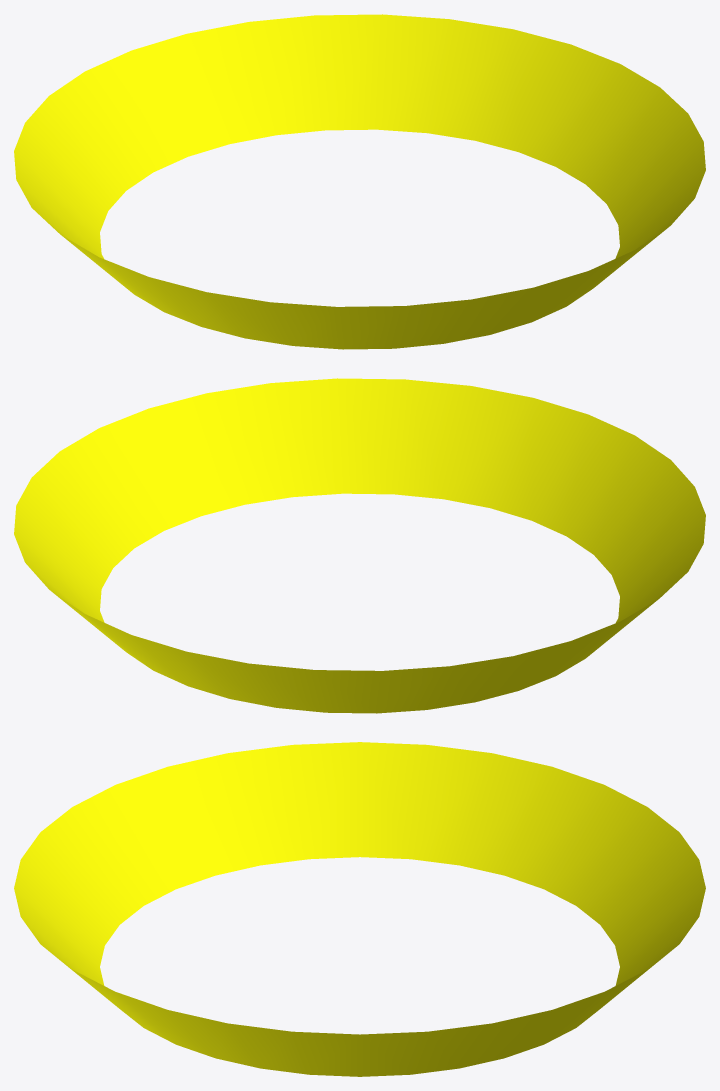
The picture shows the model from 3 angles, top to bottom: view 1: azimuth 30°, elevation 25°; view 2: azimuth 150°, elevation 25°; view 3: azimuth 270°, elevation 25°; orthographic projection.
Visible parts, largest first — view 1: Cylinder001; view 2: Cylinder001; view 3: Cylinder001.
Boxes of the visible parts, left/top/right/bottom form: Cylinder001: left=14, top=14, right=705, bottom=349; Cylinder001: left=14, top=378, right=705, bottom=713; Cylinder001: left=14, top=742, right=705, bottom=1076.
Bounding box in the file's own units: 0.8515 × 0.1069 × 0.8515.
Materials: 1 (1 with a texture image).
